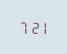one: (37, 20, 45, 34)
seven: (18, 19, 26, 33)
two: (28, 19, 36, 34)
